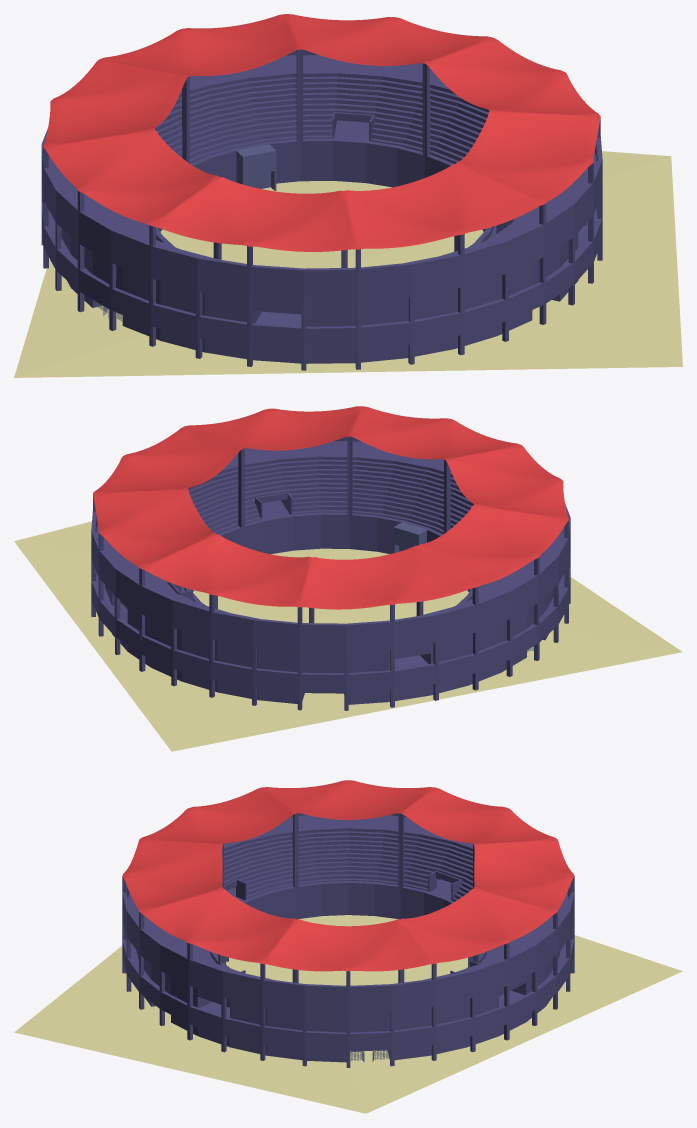
File: NEWESTADIO.fbx
3 views of the same model, one above another, from view 1: azimuth 30°, elevation 25°; view 2: azimuth 150°, elevation 25°; view 3: azimuth 270°, elevation 25° (orthographic). The views are drawn at different scales.
Parts seen in each view (by area): view 1: Object_7, Object_3, Object_6, Object_2; view 2: Object_7, Object_3, Object_6, Object_2; view 3: Object_7, Object_3, Object_6.
Part boxes in pixels (left/top/right/bottom): Object_7: left=41, top=37, right=602, bottom=370; Object_3: left=43, top=14, right=600, bottom=251; Object_6: left=14, top=151, right=682, bottom=377; Object_2: left=236, top=144, right=276, bottom=190; Object_7: left=91, top=436, right=570, bottom=710; Object_3: left=93, top=406, right=568, bottom=609; Object_6: left=14, top=521, right=682, bottom=751; Object_2: left=393, top=522, right=426, bottom=552; Object_7: left=122, top=813, right=574, bottom=1067; Object_3: left=122, top=780, right=574, bottom=971; Object_6: left=14, top=915, right=682, bottom=1113.
Size of the model in its own units: 36956 by 6910 by 36956.
